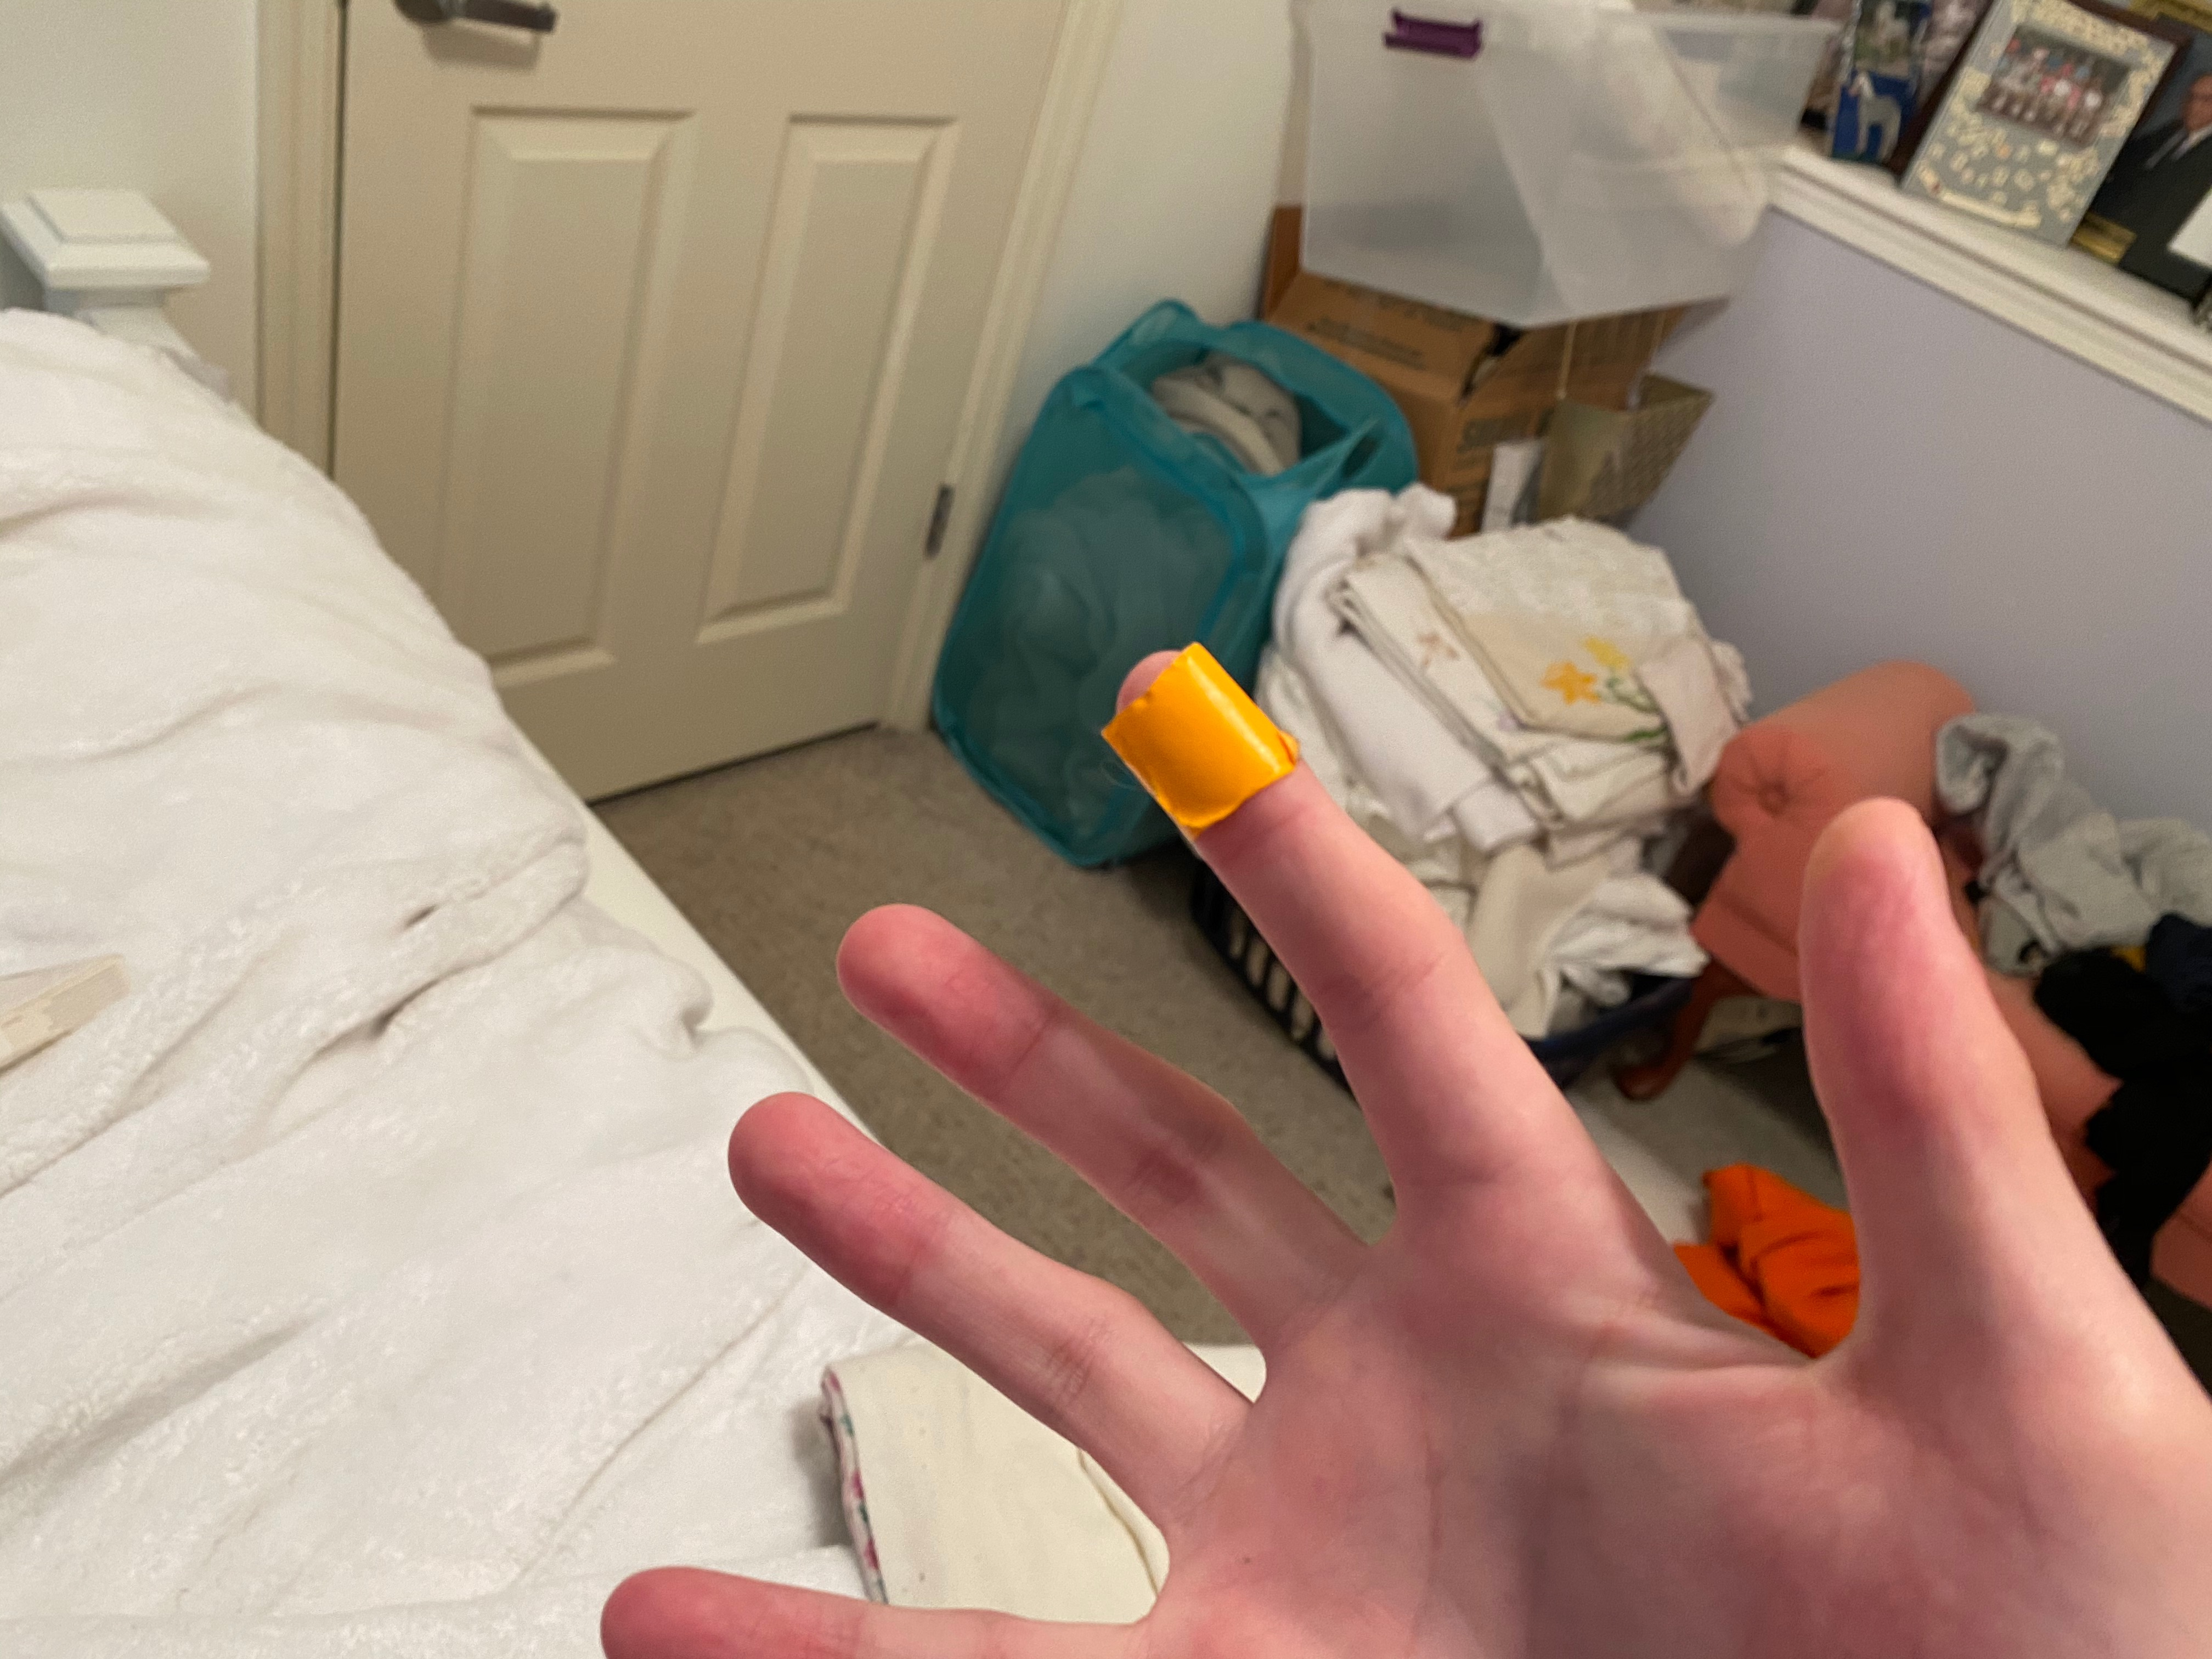fingertip: (1075, 633, 1324, 875)
